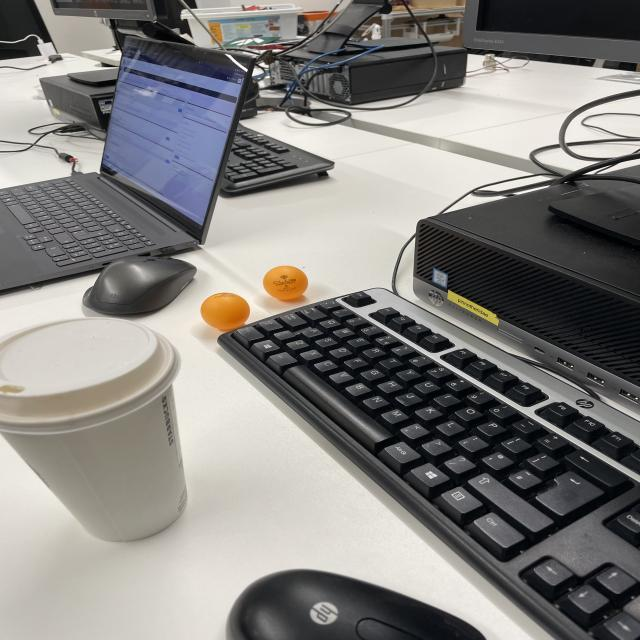oball: (198, 291, 254, 334), (260, 260, 311, 304)
